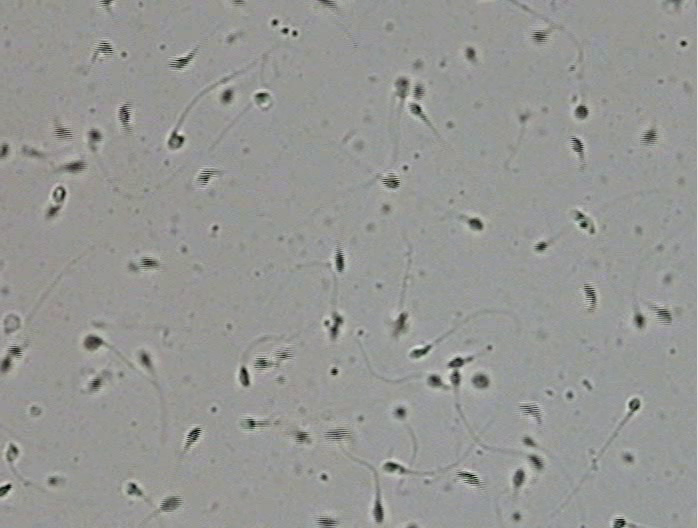S: (572, 209, 595, 234), (328, 312, 344, 339), (583, 283, 597, 310), (456, 470, 480, 485), (519, 403, 541, 419), (160, 496, 183, 511), (654, 307, 672, 325), (393, 312, 407, 334), (167, 132, 185, 149), (381, 173, 400, 189), (395, 77, 409, 98), (196, 169, 213, 186), (186, 427, 202, 445), (326, 428, 350, 440), (640, 129, 658, 145), (169, 56, 191, 69), (84, 335, 103, 350), (530, 29, 549, 44), (64, 161, 87, 173), (334, 248, 345, 273), (118, 104, 131, 125), (316, 515, 337, 528), (54, 126, 73, 140), (471, 374, 490, 388), (239, 366, 251, 388), (372, 501, 384, 523), (528, 454, 544, 470), (97, 41, 114, 56), (570, 135, 584, 153), (139, 256, 158, 269), (6, 443, 19, 462), (513, 468, 526, 487), (52, 186, 66, 203), (410, 346, 429, 358), (253, 356, 269, 370), (294, 430, 310, 444), (126, 482, 141, 496), (574, 105, 589, 119), (240, 417, 256, 430), (426, 374, 442, 387), (412, 84, 425, 100), (633, 312, 645, 329), (88, 378, 102, 392), (7, 345, 22, 358), (468, 218, 483, 231), (276, 348, 292, 360), (449, 369, 461, 385), (253, 92, 270, 103), (221, 89, 234, 103), (88, 129, 102, 142), (46, 205, 61, 217), (139, 351, 151, 366), (447, 357, 465, 367), (628, 398, 641, 411), (1, 482, 12, 497), (612, 517, 627, 528), (1, 356, 11, 372), (409, 103, 422, 115), (395, 407, 407, 419), (522, 436, 535, 447), (534, 241, 547, 252), (383, 462, 397, 472), (317, 1, 336, 8), (1, 142, 9, 158), (465, 47, 475, 59), (99, 1, 113, 8), (233, 1, 245, 6)
